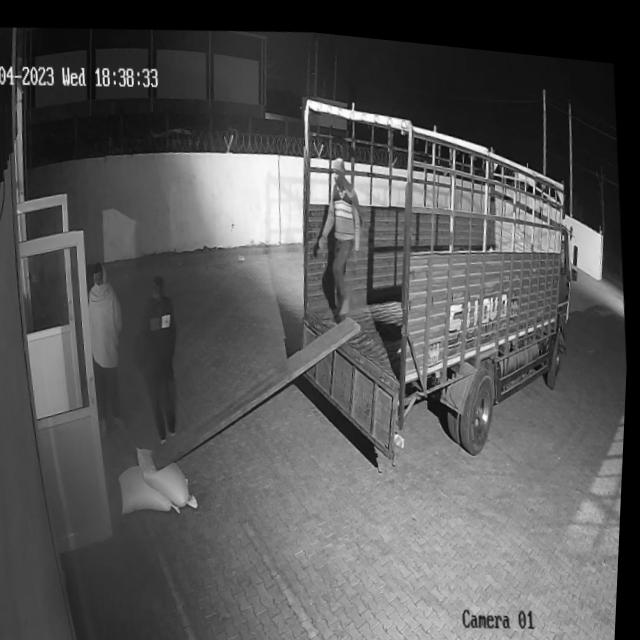sack: (137, 436, 205, 508), (119, 455, 185, 513)
